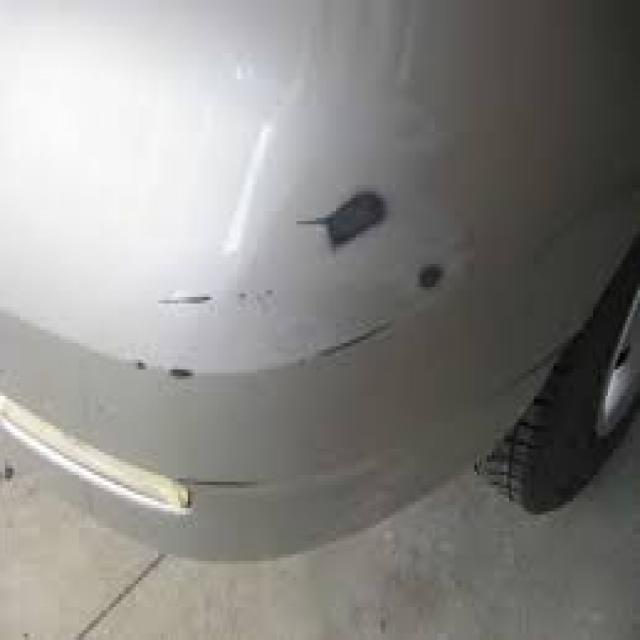Scratch: (309, 178, 390, 238)
